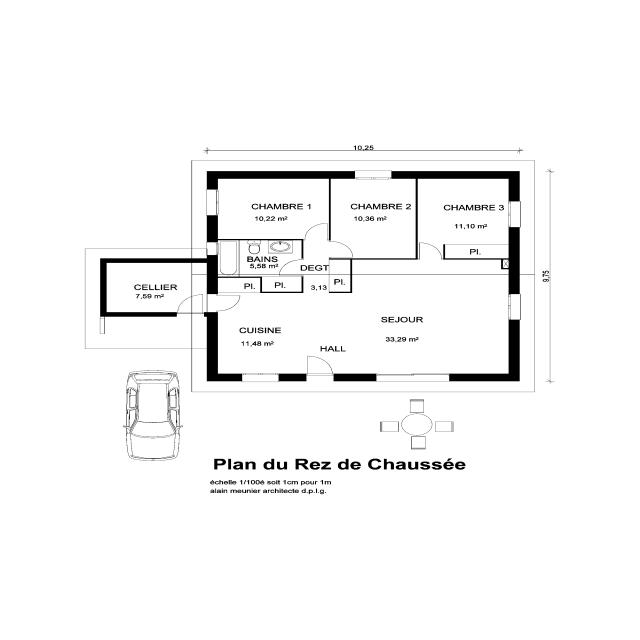door: (302, 354, 336, 380), (301, 221, 330, 242), (216, 292, 245, 312), (416, 240, 444, 260), (328, 239, 356, 258), (180, 292, 203, 312), (278, 257, 303, 274)
window: (369, 371, 454, 381), (350, 168, 396, 182), (506, 198, 523, 230), (236, 371, 284, 382), (204, 188, 221, 218), (506, 292, 522, 323), (206, 240, 220, 258)
zone: (215, 258, 510, 375), (415, 176, 514, 259), (212, 177, 330, 239), (328, 178, 418, 259), (104, 262, 209, 314), (216, 240, 302, 274)
